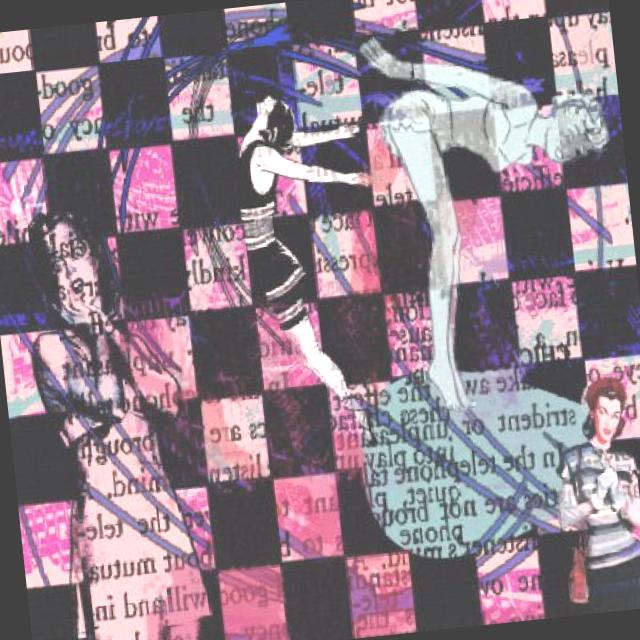Person: (24, 198, 217, 640), (230, 82, 405, 456), (538, 370, 640, 615)
